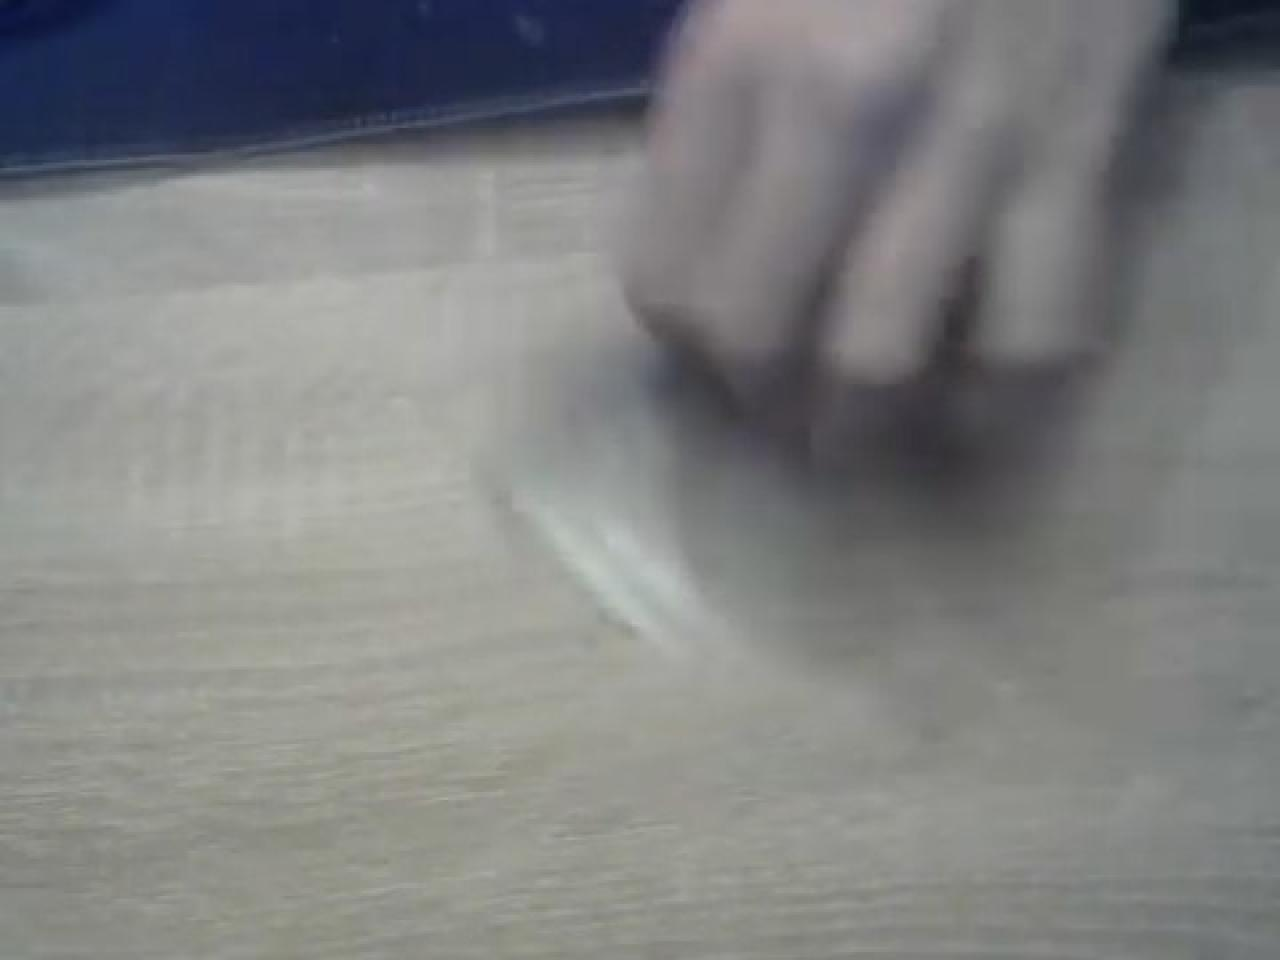10leva: (611, 0, 1189, 507)
